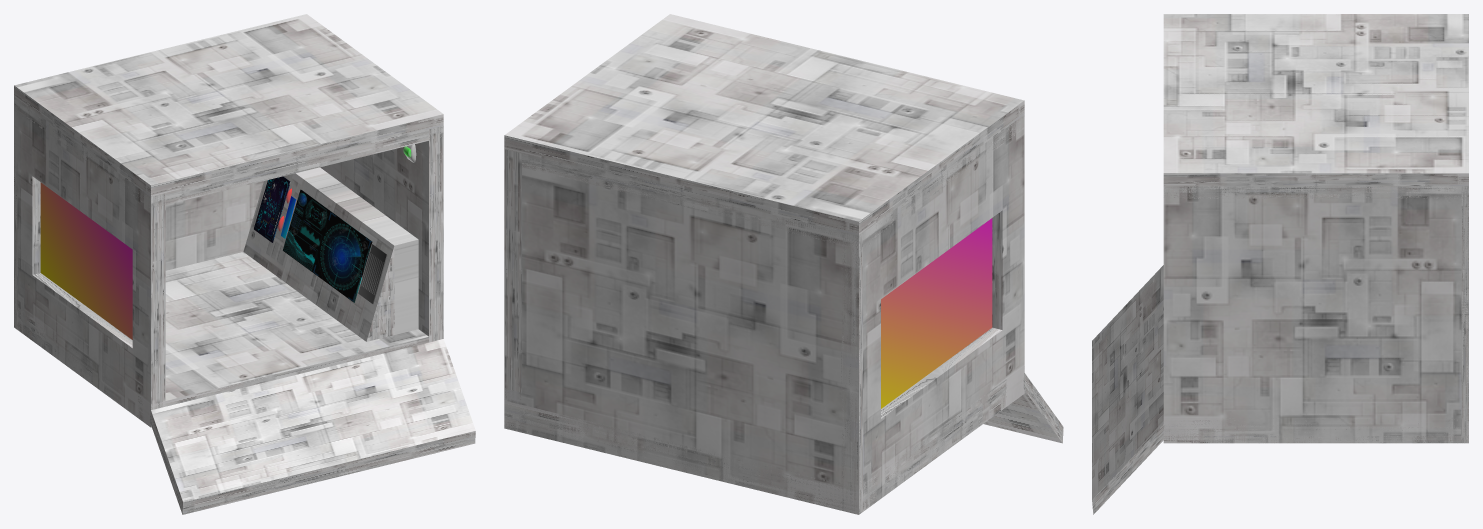
File: cargo.obj
The picture shows the model from 3 angles, left to right: view 1: azimuth 30°, elevation 25°; view 2: azimuth 150°, elevation 25°; view 3: azimuth 270°, elevation 25°; orthographic projection. The views are drawn at different scales.
Parts seen in each view (by area): view 1: cargo; view 2: cargo; view 3: cargo.
Part boxes in pixels (box(x1,y1,x2,y2)): cargo: box(14, 14, 475, 514); cargo: box(504, 14, 1063, 514); cargo: box(1092, 14, 1468, 514).
Bounding box in the file's own units: 1 × 1 × 1.
